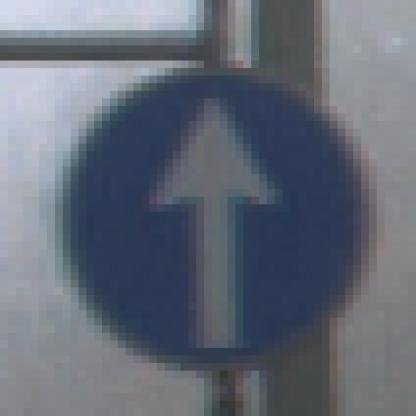AheadOnly: (40, 47, 378, 380)
